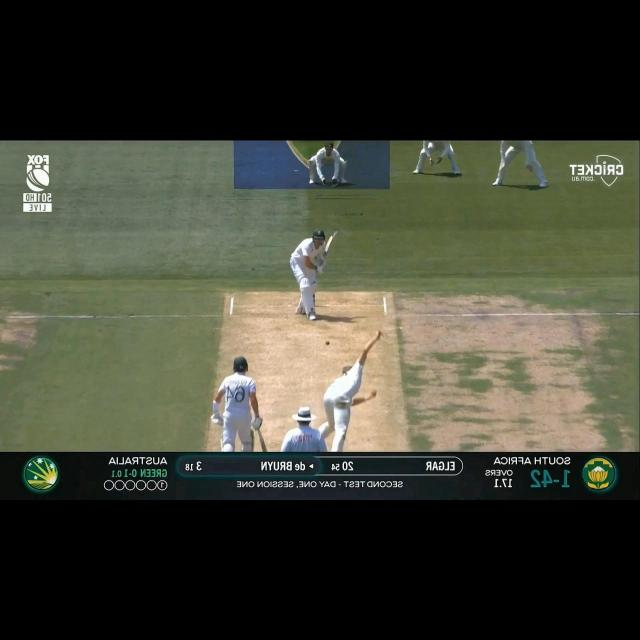bat: (321, 233, 334, 260), (259, 440, 268, 452)
toe: (328, 235, 333, 242)
